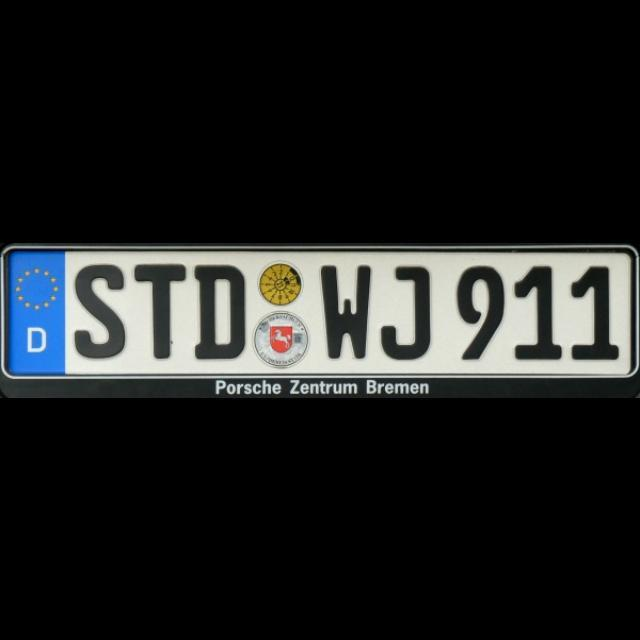license-plates: (0, 244, 638, 398)
